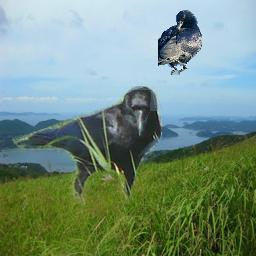Crow: (12, 86, 162, 204), (158, 10, 202, 75)
